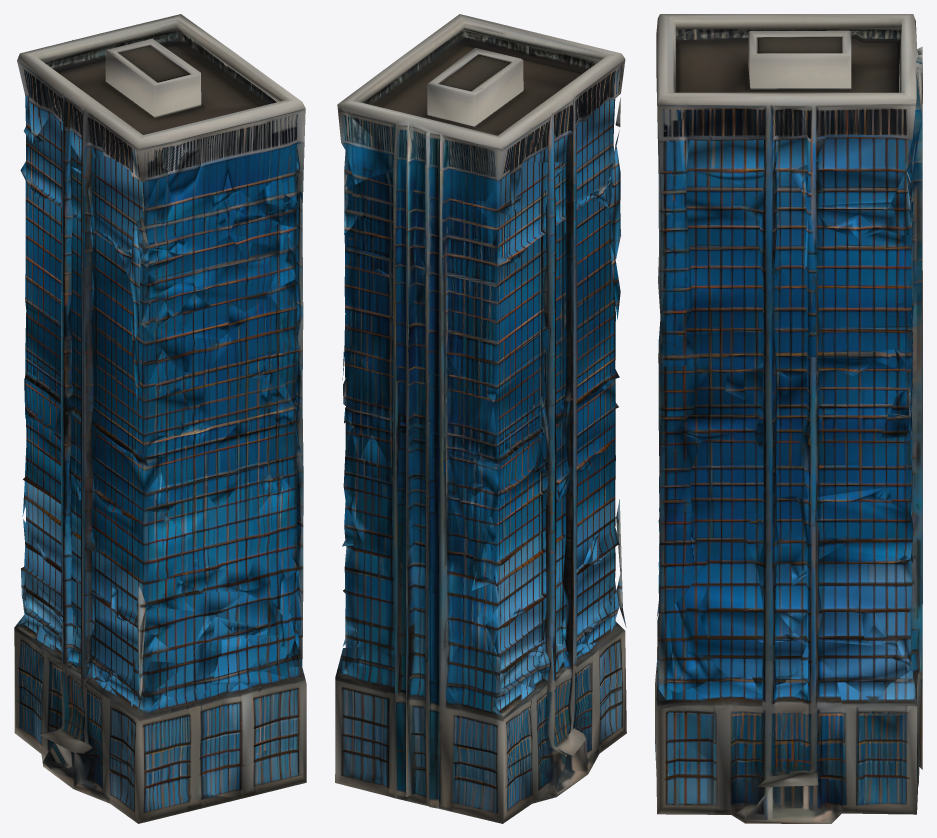
File: tower_block.glb
3 renders of one model, left to right at view 1: azimuth 30°, elevation 25°; view 2: azimuth 150°, elevation 25°; view 3: azimuth 270°, elevation 25°, orthographic. The views are drawn at different scales.
Visible parts, largest first — view 1: tripo_node_e9c85afa-f314-4e6a-8160-d5eb5d7fd3fb; view 2: tripo_node_e9c85afa-f314-4e6a-8160-d5eb5d7fd3fb; view 3: tripo_node_e9c85afa-f314-4e6a-8160-d5eb5d7fd3fb.
Part boxes in pixels (x1,y1,x2,y2): tripo_node_e9c85afa-f314-4e6a-8160-d5eb5d7fd3fb: (14, 14, 306, 823); tripo_node_e9c85afa-f314-4e6a-8160-d5eb5d7fd3fb: (335, 14, 626, 823); tripo_node_e9c85afa-f314-4e6a-8160-d5eb5d7fd3fb: (655, 14, 922, 823).
Bounding box in the file's own units: 0.3297 × 0.9998 × 0.333.
Materials: 1 (1 with a texture image).
